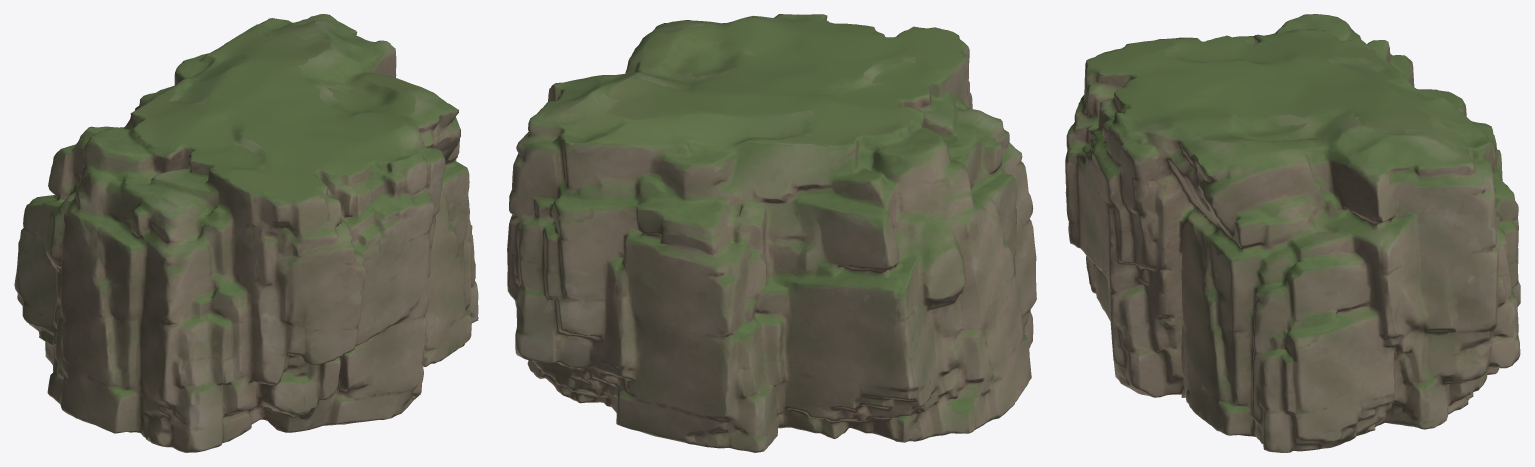
Rendered from fairy_moss_bank_1.glb.
The picture shows the model from 3 angles, left to right: view 1: azimuth 30°, elevation 25°; view 2: azimuth 150°, elevation 25°; view 3: azimuth 270°, elevation 25°; orthographic projection. The views are drawn at different scales.
Parts seen in each view (by area): view 1: fairy_moss_bank_1; view 2: fairy_moss_bank_1; view 3: fairy_moss_bank_1.
Part boxes in pixels (x1,y1,x2,y2): fairy_moss_bank_1: (14,14,478,452); fairy_moss_bank_1: (507,14,1036,452); fairy_moss_bank_1: (1065,14,1520,452).
Bounding box in the file's own units: 7.49 × 4.81 × 6.89.
Materials: 1 (1 with a texture image).
